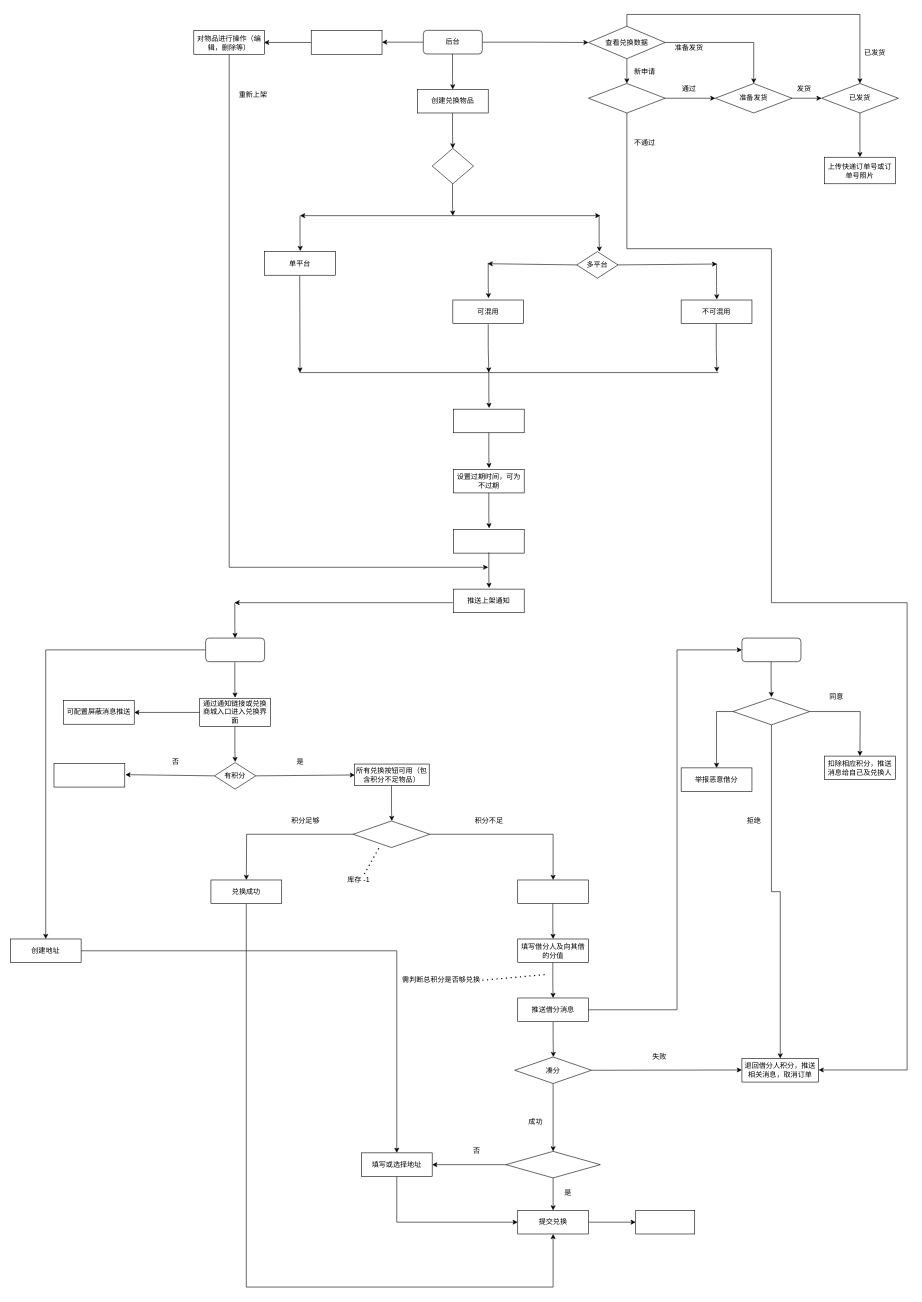
The diagram is 922 pixels wide and 1302 high, and some of its shapes have lost their labels. The box of each missing label's shape, as (x1, y1, x2, y2) in pixels:
上架: (453, 529, 524, 553)
下架物品: (311, 30, 382, 54)
借分: (732, 698, 810, 725)
借分人: (741, 637, 801, 662)
兑换按钮禁用: (53, 763, 125, 787)
兑换物品: (353, 820, 430, 848)
兑换物品是否虚拟物品: (505, 1151, 600, 1178)
待审核: (588, 83, 665, 113)
提示积分不足，需要借分，是否进行借分: (517, 879, 589, 904)
消息推送到后台: (635, 1210, 695, 1234)
用户端: (205, 637, 265, 662)
设置库存，可为不限制: (453, 409, 524, 433)
设置积分: (432, 148, 473, 184)
